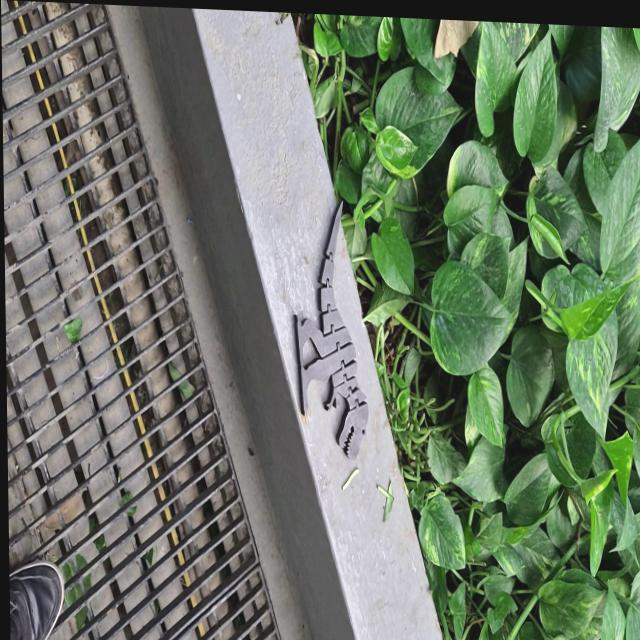dino: (291, 196, 370, 464)
